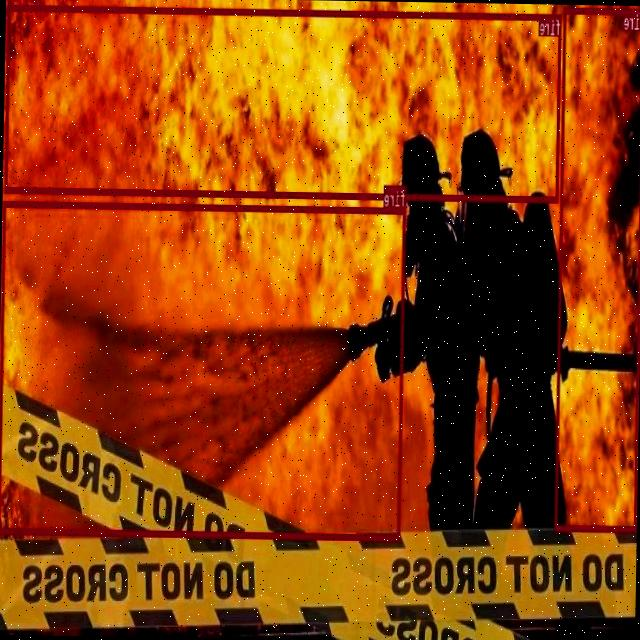fire: (0, 200, 405, 539), (5, 3, 562, 202), (554, 6, 640, 530)
